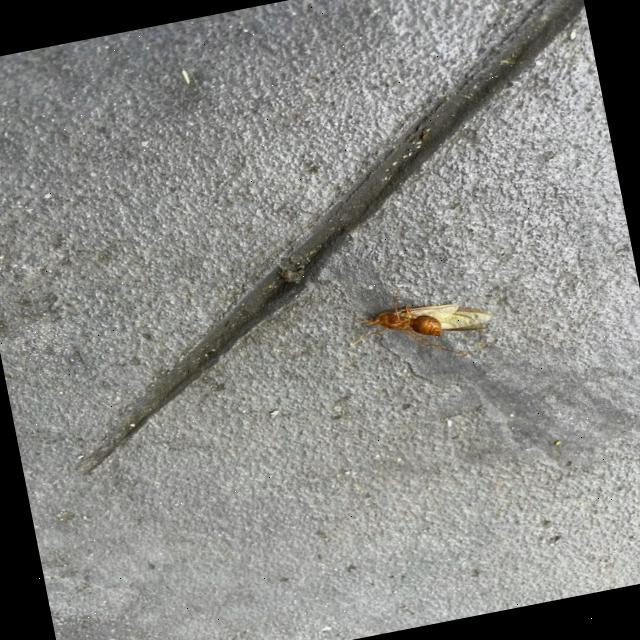Dead-Male-Alate: (338, 280, 498, 384)
